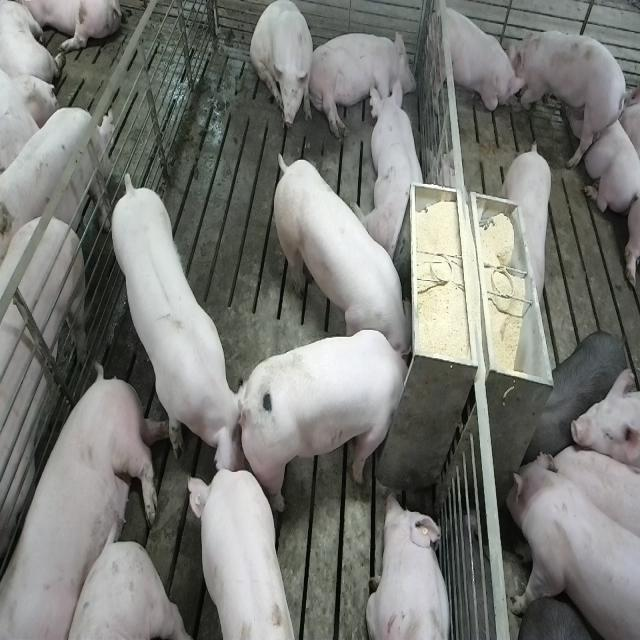Feeding: (246, 329, 419, 514), (269, 144, 411, 358)
Lateral_lying: (4, 364, 167, 640), (307, 28, 417, 140)
Sitting: (423, 0, 520, 126), (250, 2, 315, 136)
Standing: (110, 162, 250, 475), (0, 209, 89, 576), (504, 452, 638, 640), (190, 469, 301, 640), (0, 101, 111, 257), (511, 26, 627, 166), (528, 328, 628, 456), (504, 138, 556, 316)
Sternal_lying: (366, 489, 454, 640), (363, 75, 430, 258), (561, 82, 639, 213)
